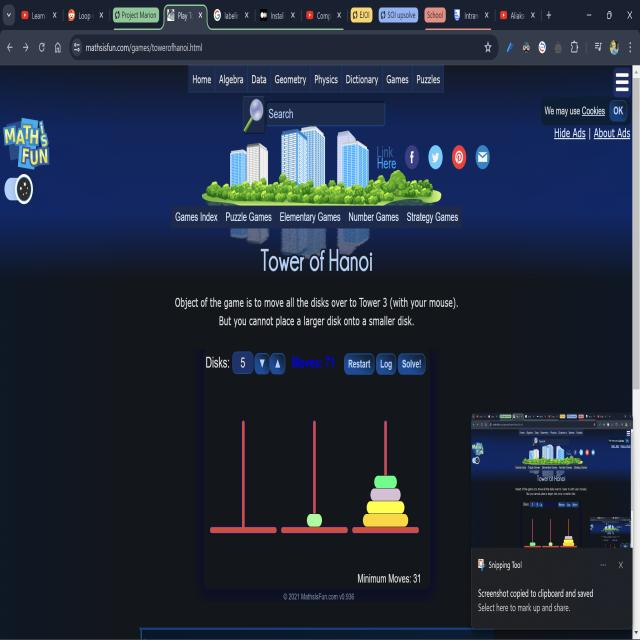disk1: (307, 514, 322, 527)
disk2: (374, 476, 397, 488)
disk3: (370, 488, 401, 501)
disk4: (367, 501, 404, 514)
disk5: (363, 514, 408, 526)
